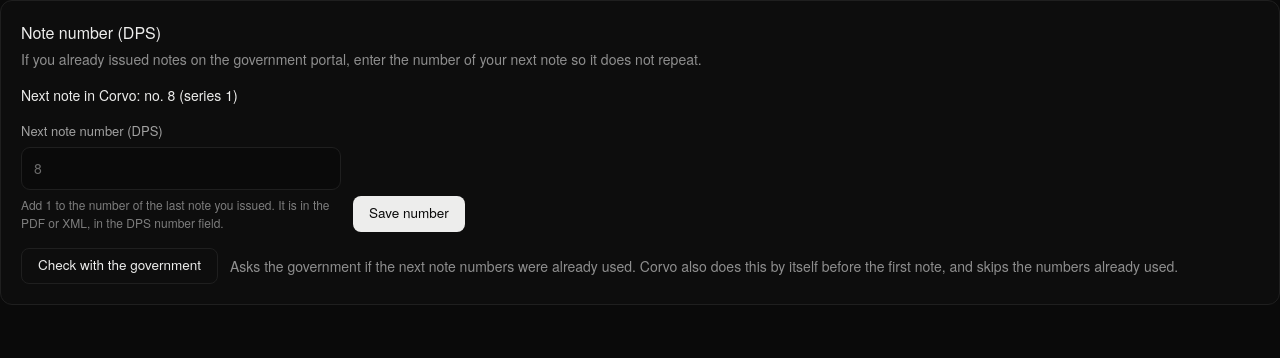
DpsSequenceCard › saves the next number: the API gets the last one used (next minus one)
Expected: the text "Next note in Corvo: no. 8 (series 1)" is shown, [21, 85, 238, 105]
In the field labelled "Next note number (DPS)": (181, 168) [21, 146, 341, 190], type "121"
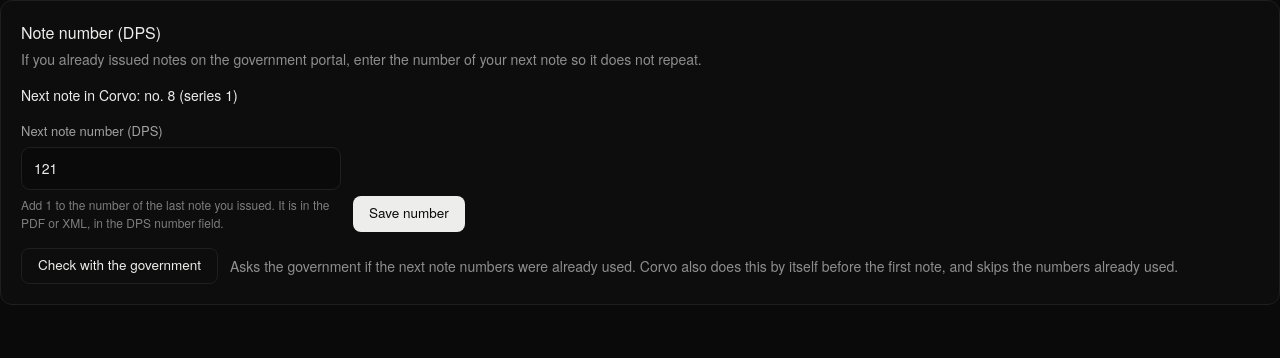
Click the button "Save number": (409, 214) [353, 196, 465, 232]
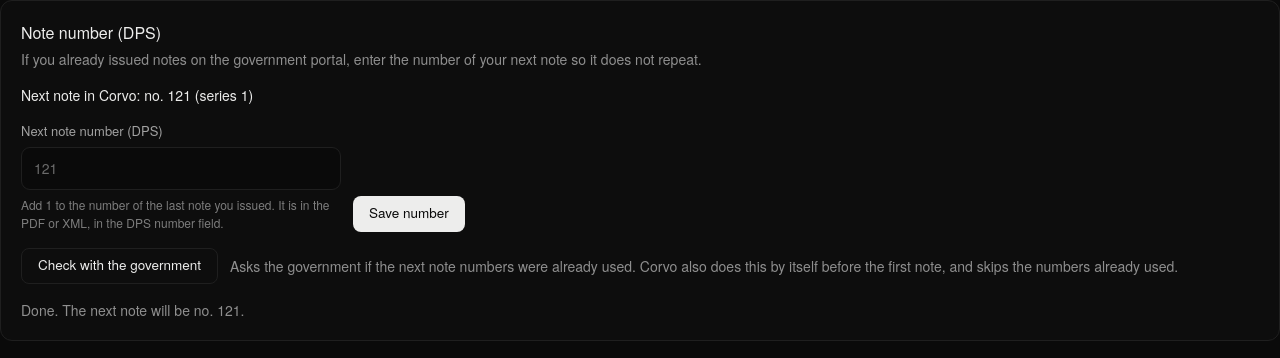
Now the text "Done. The next note will be no. 121." is shown, box [21, 300, 244, 320]
